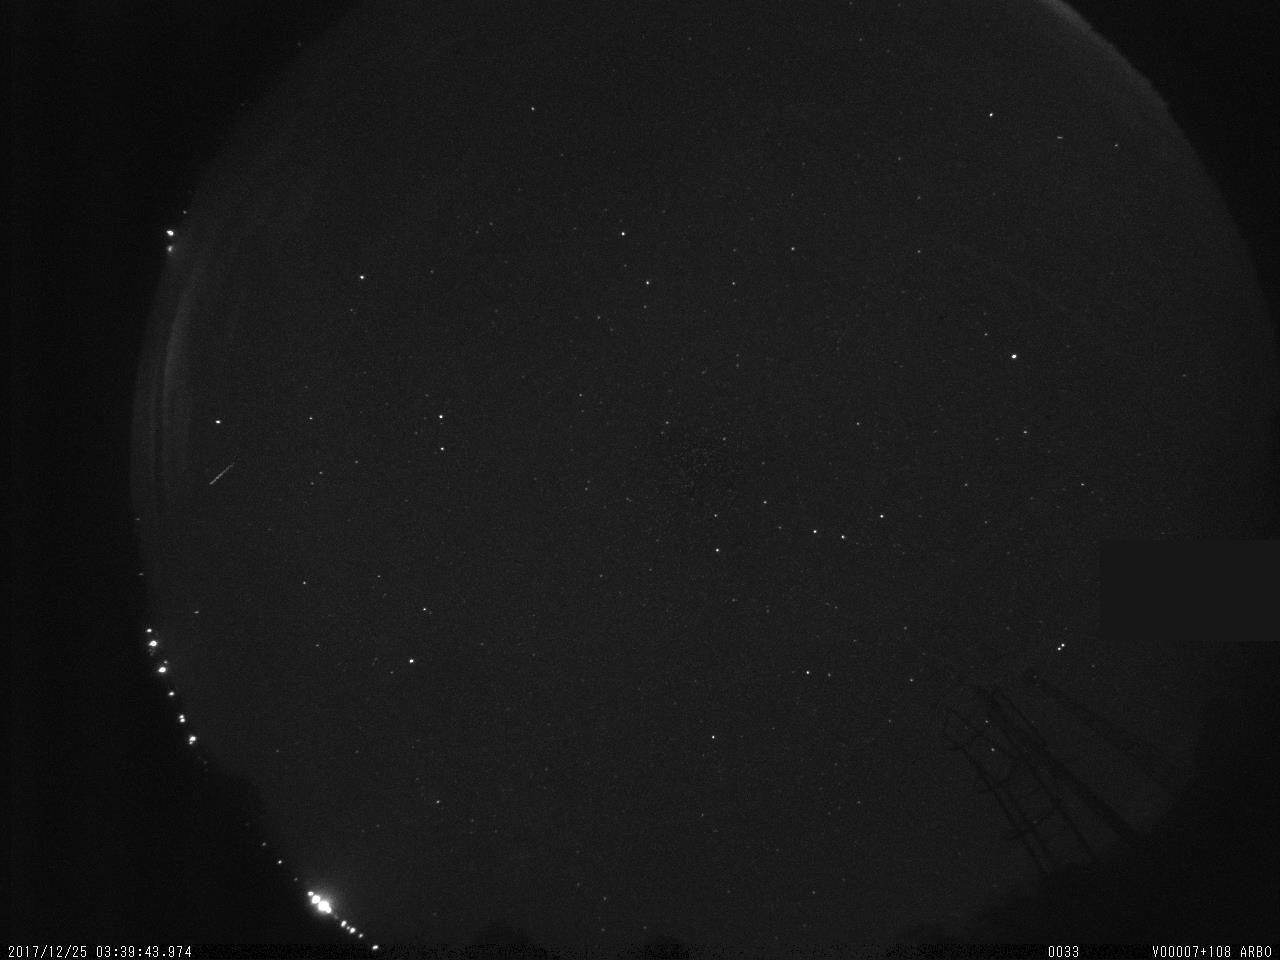meteor: (201, 448, 243, 496)
